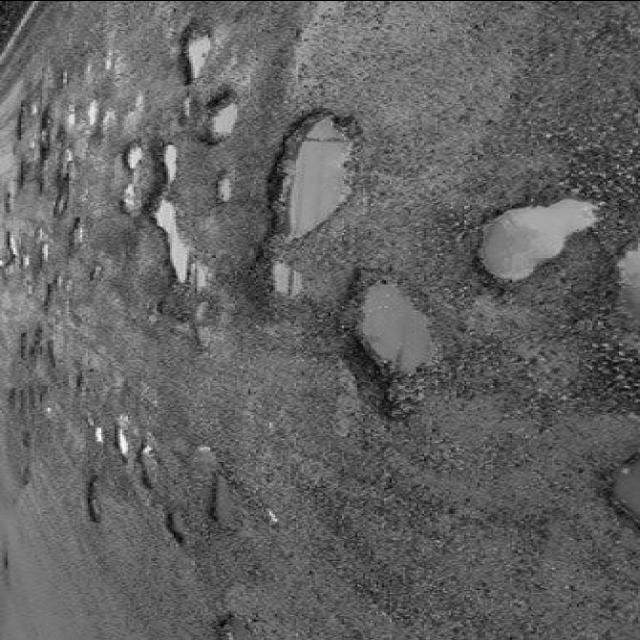lubang: (321, 265, 443, 401), (252, 109, 361, 247), (466, 193, 600, 294), (140, 188, 210, 294), (136, 292, 222, 352), (13, 318, 69, 372), (248, 251, 308, 301), (58, 95, 123, 141), (606, 234, 638, 326), (174, 438, 224, 494), (58, 354, 109, 406), (166, 23, 210, 83), (200, 84, 240, 150), (202, 467, 245, 528), (596, 458, 638, 520), (0, 230, 38, 292), (48, 144, 76, 216), (4, 382, 54, 418), (149, 136, 185, 182), (206, 609, 254, 639), (166, 89, 200, 128), (74, 407, 108, 445), (0, 530, 18, 597), (118, 140, 148, 176), (36, 272, 64, 310), (134, 441, 158, 485), (253, 499, 286, 529), (84, 466, 101, 522), (161, 510, 187, 546), (66, 214, 94, 244), (12, 426, 44, 452), (212, 170, 242, 197), (8, 462, 38, 488), (6, 104, 25, 144), (112, 422, 136, 452), (116, 180, 142, 207), (45, 66, 74, 90), (10, 159, 28, 195), (1, 188, 18, 220), (82, 262, 105, 283), (38, 238, 58, 262), (34, 106, 54, 128)
